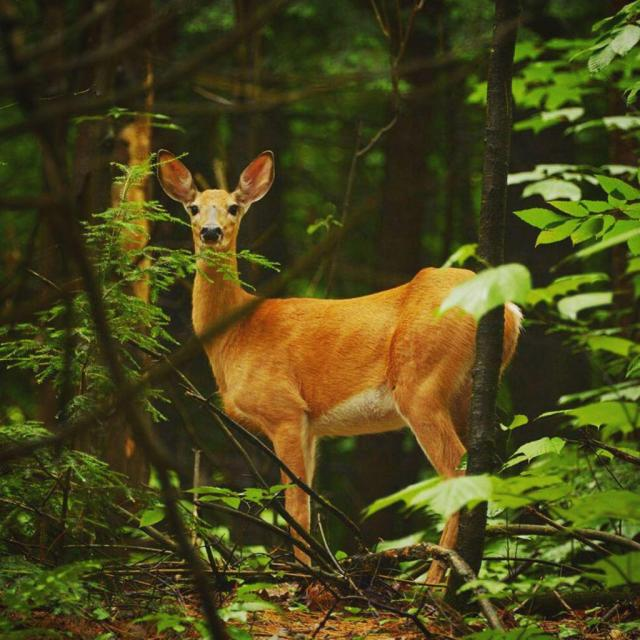Deer: (157, 148, 526, 582)
